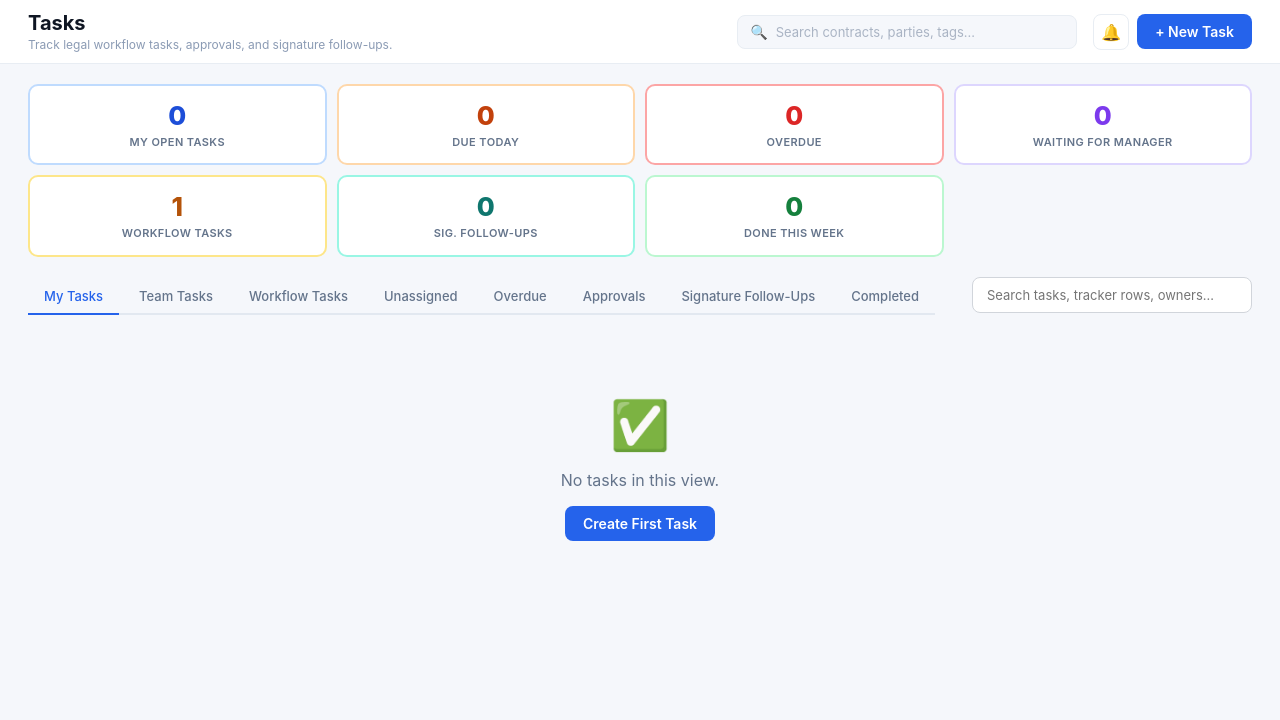
Test: (asgn-19) After assigning unassigned item, it leaves Unassigned tab and appears in Team Tasks
Click the button "Unassigned".
click(421, 297)  # box [368,279,474,315]
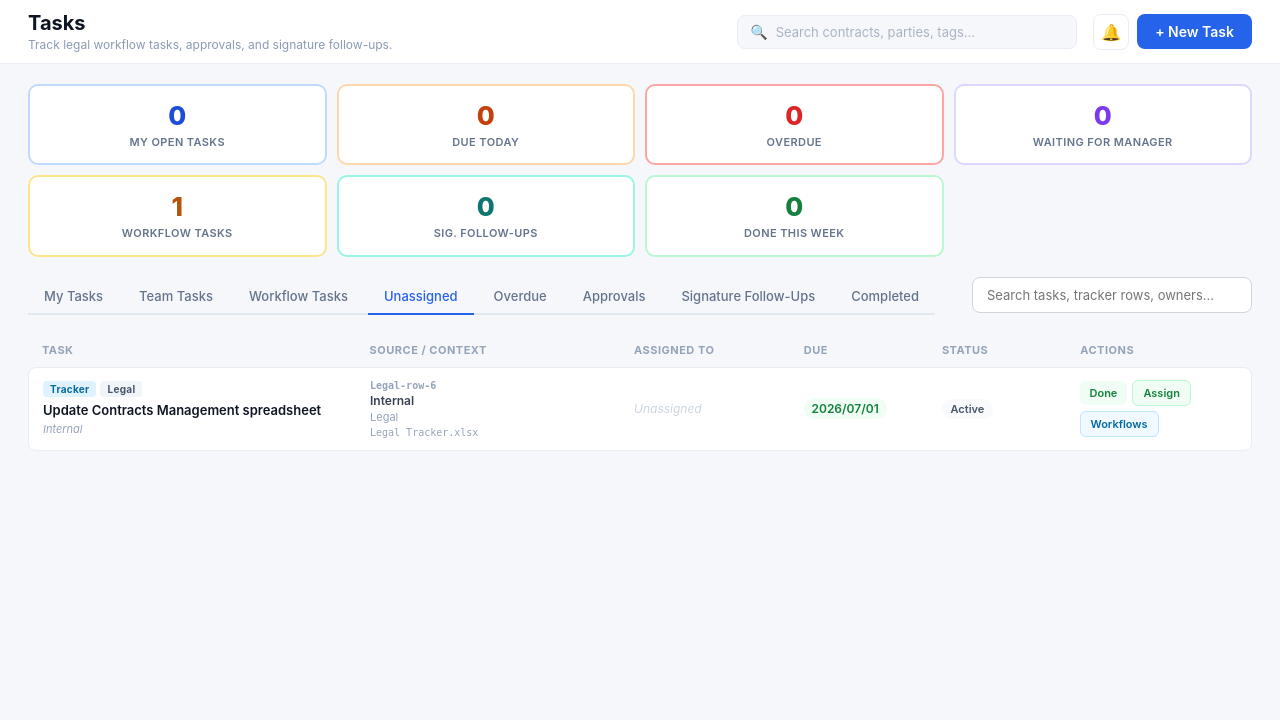
Expected: the button "Assign" is shown
Click the button "Assign".
click(1162, 393)  # box [1132,380,1191,406]
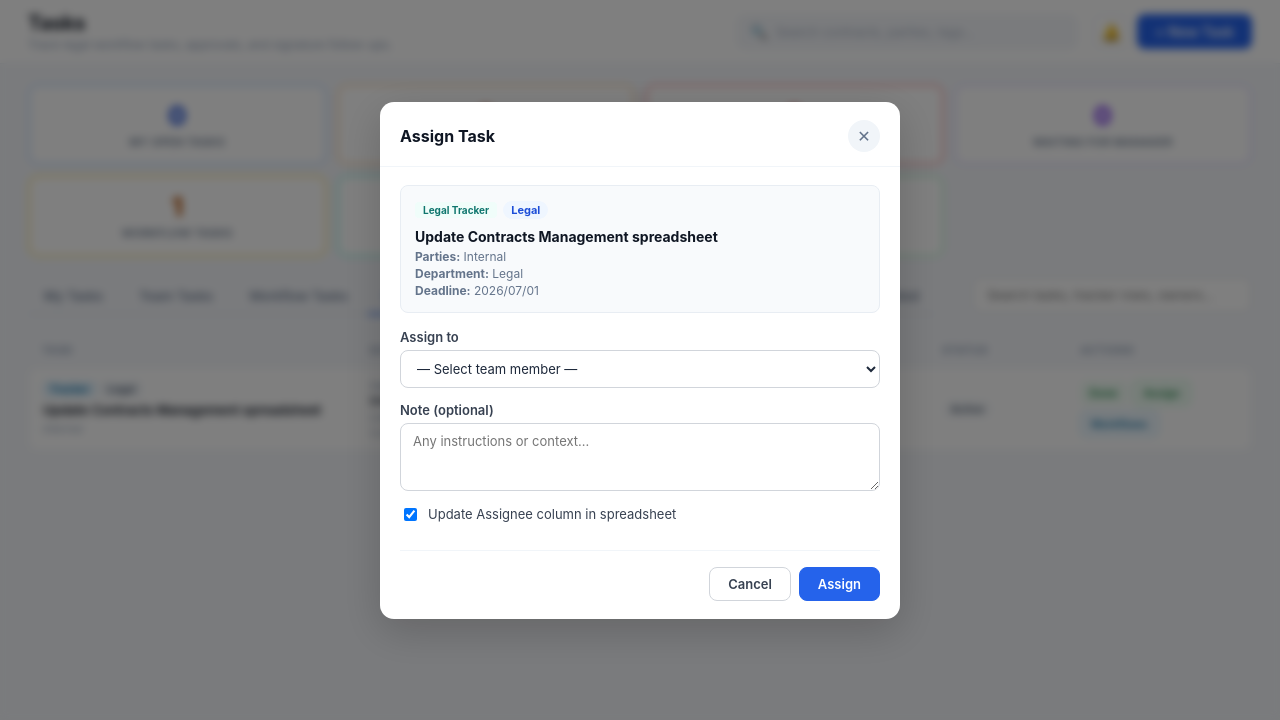
Select "Faith (staff)" in the dropdown at (640, 368), box [400,350,880,388]
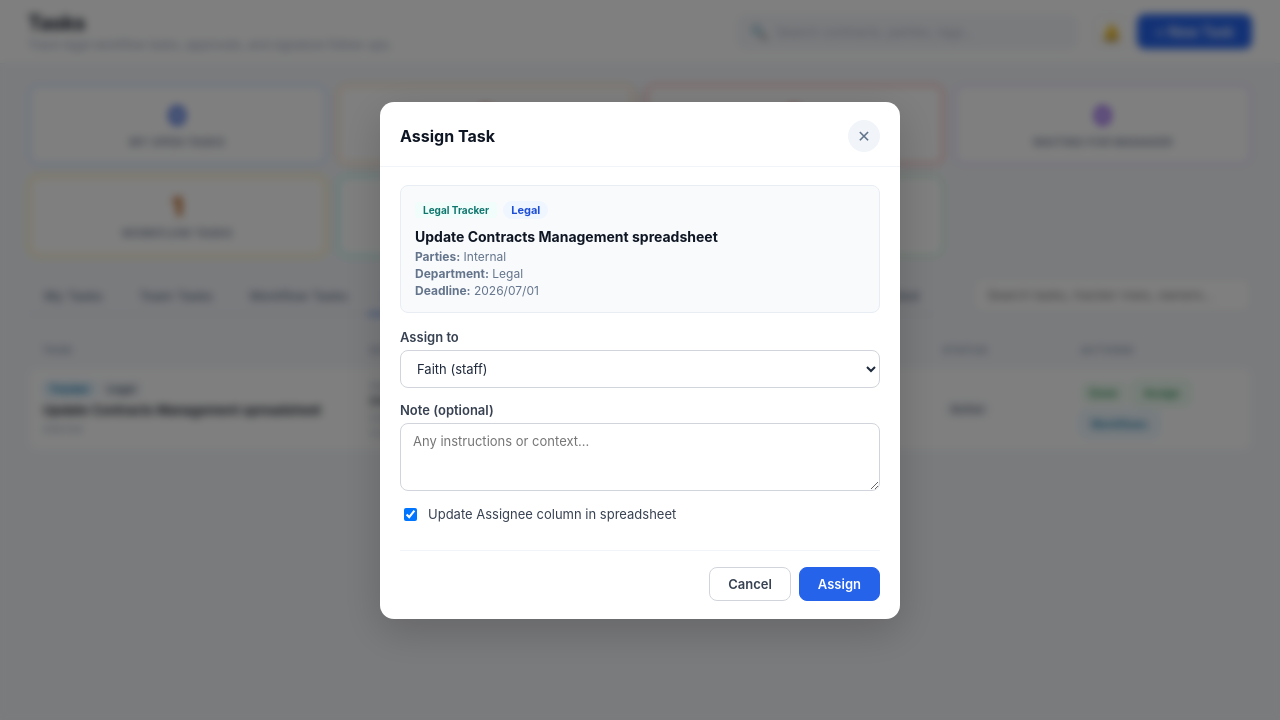
Submit the form with class "asgn__form", box [400,328,880,600]
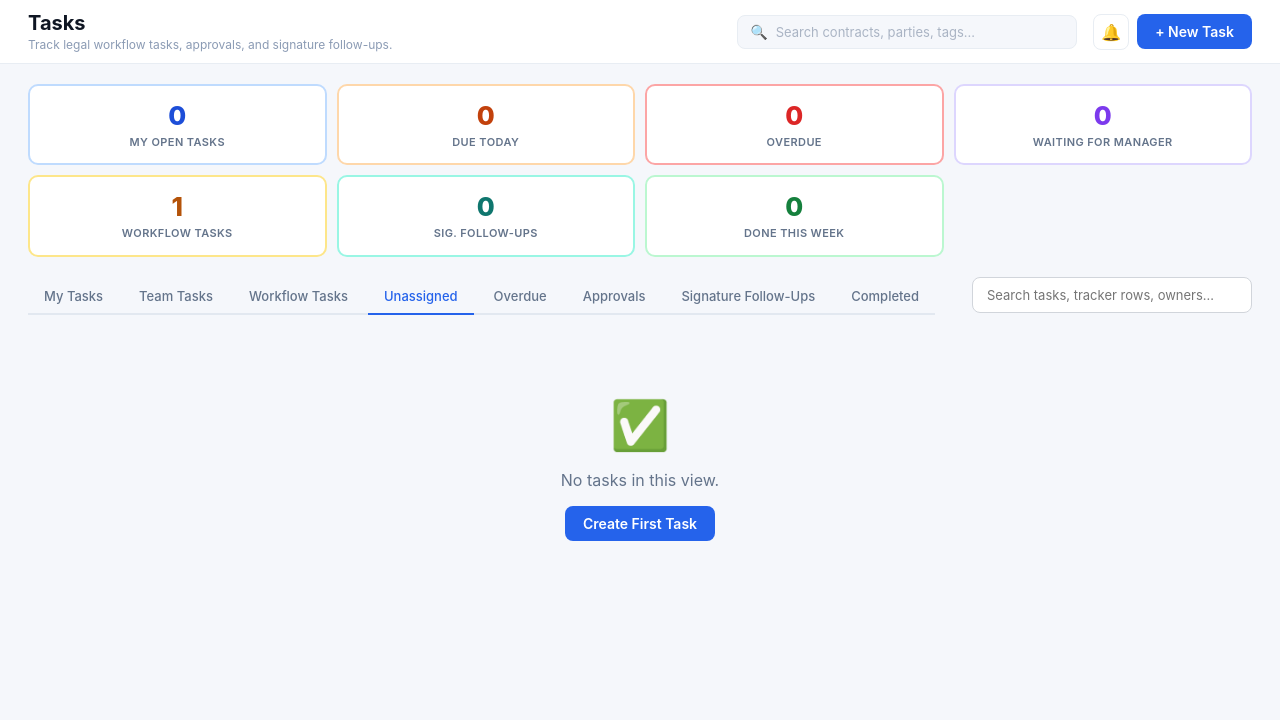
Expected: no elements with class "tl__row" are shown
